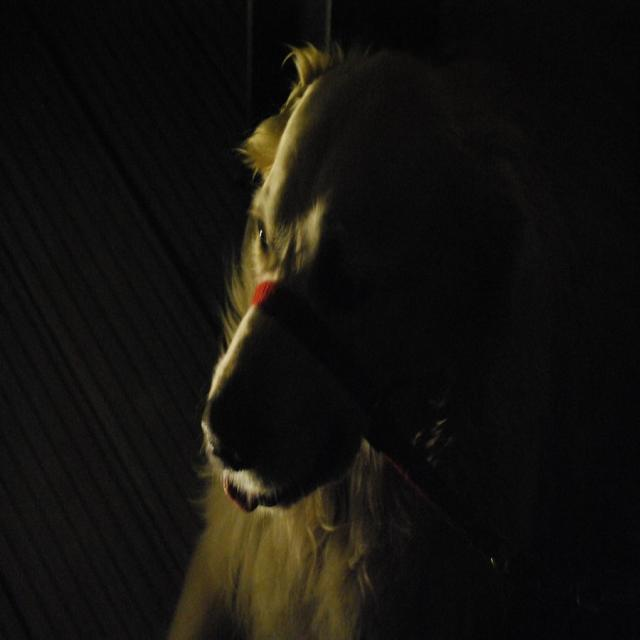Dog: (170, 37, 534, 615)
